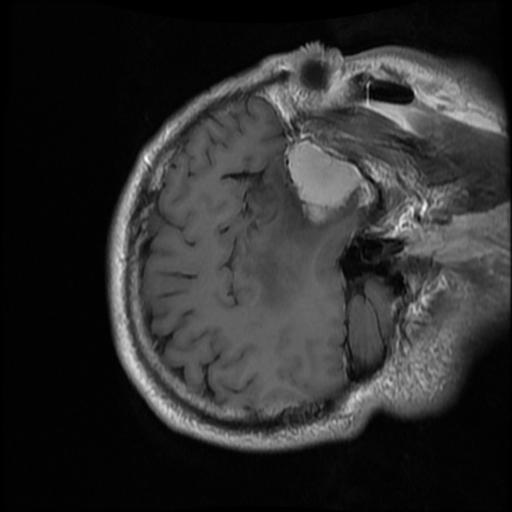meningioma: (286, 143, 361, 222)
